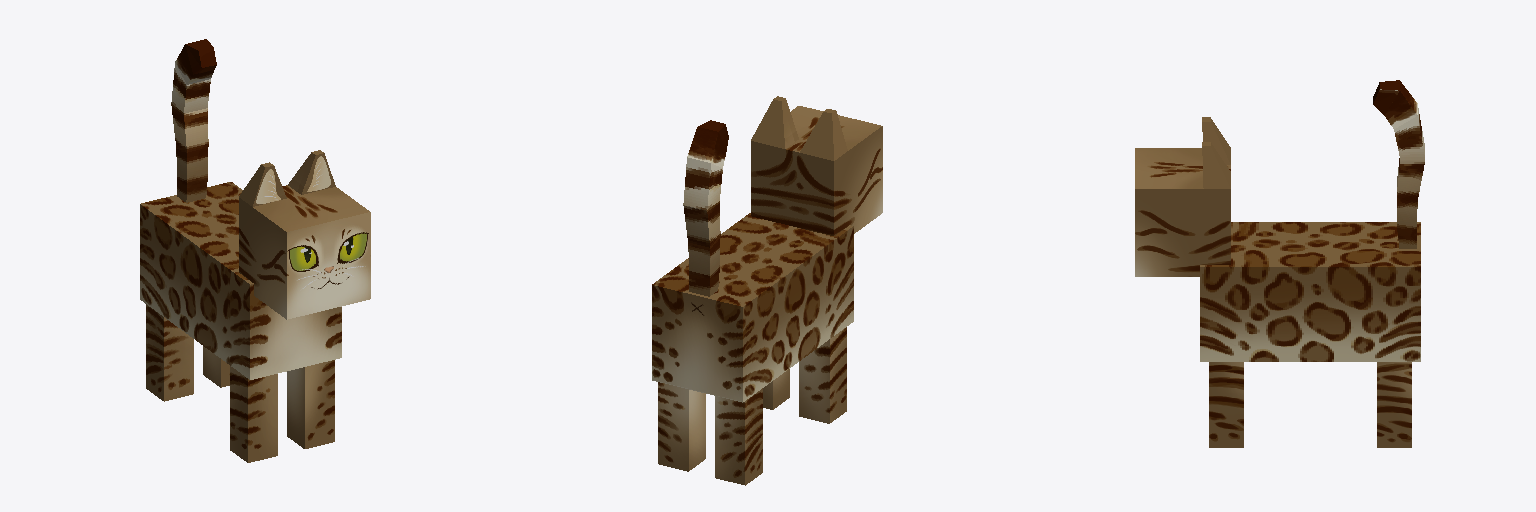
3 views of the same model, side by side, from view 1: azimuth 30°, elevation 25°; view 2: azimuth 150°, elevation 25°; view 3: azimuth 270°, elevation 25° (orthographic).
Visible parts, largest first — view 1: Cat_Body_initialShadingGroup, Cat_2_Bengal_initialShadingGroup, Cat_2_Bengal_initialShadingGroup_1, Cat_2_Bengal_initialShadingGroup_2, Cat_2_Bengal_initialShadingGroup_3, Cat_2_Bengal_initialShadingGroup_4, Cat_2_Bengal_initialShadingGroup_5; view 2: Cat_Body_initialShadingGroup, Cat_2_Bengal_initialShadingGroup, Cat_2_Bengal_initialShadingGroup_1, Cat_2_Bengal_initialShadingGroup_4, Cat_2_Bengal_initialShadingGroup_5, Cat_2_Bengal_initialShadingGroup_2, Cat_2_Bengal_initialShadingGroup_3; view 3: Cat_Body_initialShadingGroup, Cat_2_Bengal_initialShadingGroup, Cat_2_Bengal_initialShadingGroup_1, Cat_2_Bengal_initialShadingGroup_3, Cat_2_Bengal_initialShadingGroup_5.
Part boxes in pixels (x1,y1,x2,y2): Cat_Body_initialShadingGroup: (140, 182, 341, 379); Cat_2_Bengal_initialShadingGroup: (239, 150, 370, 319); Cat_2_Bengal_initialShadingGroup_1: (171, 39, 216, 202); Cat_2_Bengal_initialShadingGroup_2: (230, 366, 277, 462); Cat_2_Bengal_initialShadingGroup_3: (287, 360, 334, 448); Cat_2_Bengal_initialShadingGroup_4: (146, 304, 193, 401); Cat_2_Bengal_initialShadingGroup_5: (203, 346, 229, 387); Cat_Body_initialShadingGroup: (652, 213, 853, 402); Cat_2_Bengal_initialShadingGroup: (751, 96, 882, 235); Cat_2_Bengal_initialShadingGroup_1: (683, 120, 728, 296); Cat_2_Bengal_initialShadingGroup_4: (715, 388, 762, 485); Cat_2_Bengal_initialShadingGroup_5: (658, 382, 705, 471); Cat_2_Bengal_initialShadingGroup_2: (799, 327, 846, 423); Cat_2_Bengal_initialShadingGroup_3: (763, 369, 789, 409); Cat_Body_initialShadingGroup: (1200, 222, 1420, 361); Cat_2_Bengal_initialShadingGroup: (1135, 117, 1230, 276); Cat_2_Bengal_initialShadingGroup_1: (1373, 80, 1424, 248); Cat_2_Bengal_initialShadingGroup_3: (1209, 362, 1243, 447); Cat_2_Bengal_initialShadingGroup_5: (1377, 362, 1411, 447).
Bounding box in the file's own units: 1 × 3.57 × 2.76.
1 materials, 1 textured.